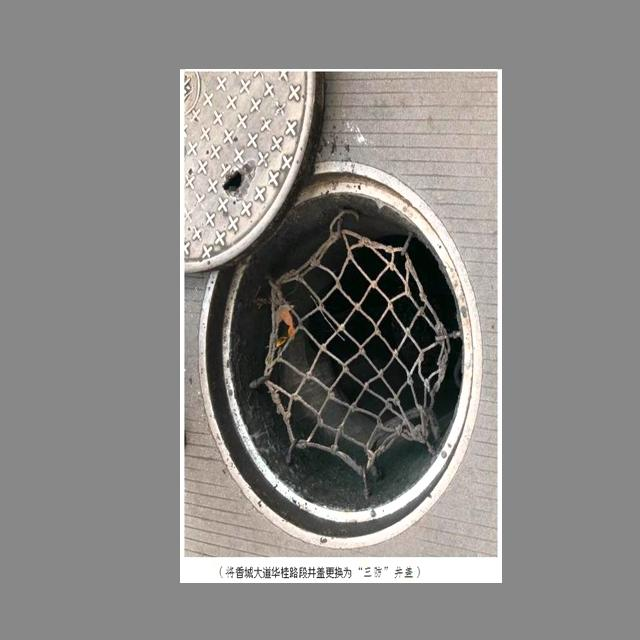uncovered: (189, 73, 485, 538)
